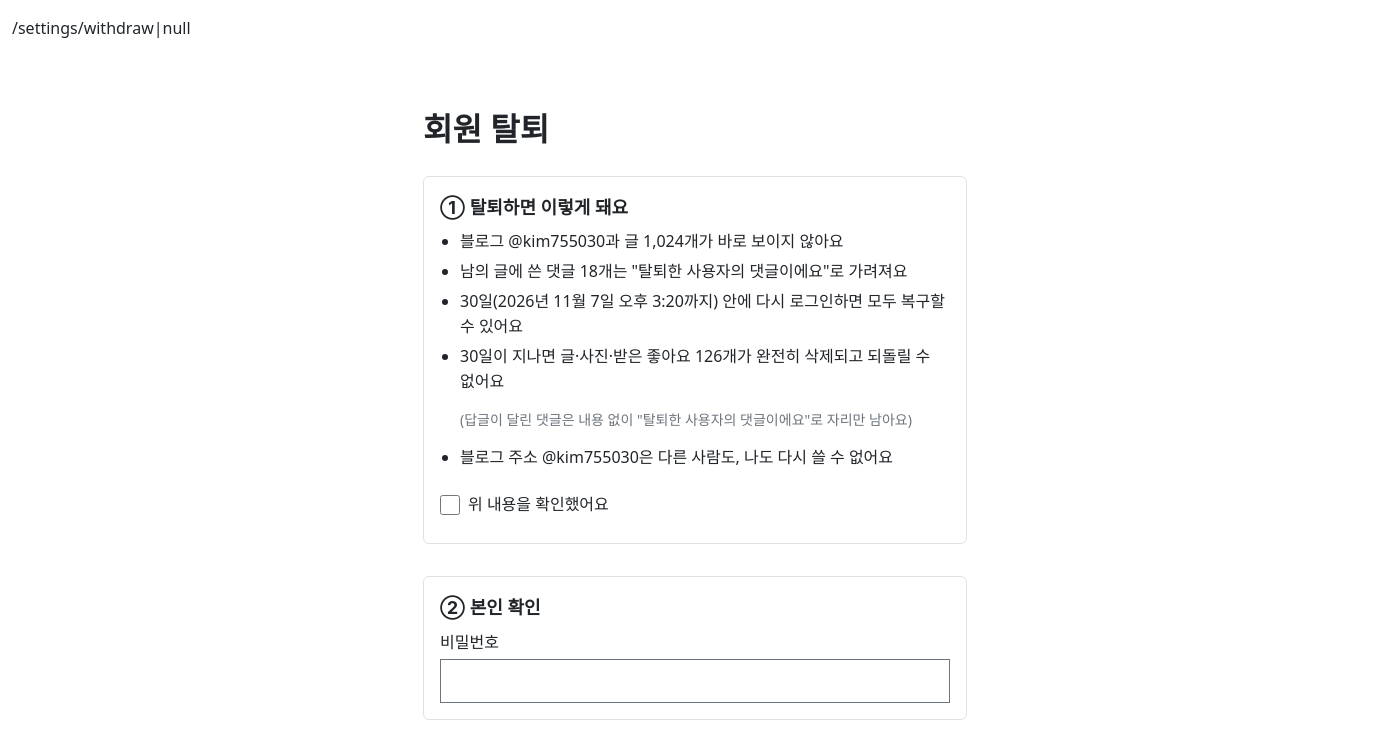
Scenario: WithdrawPage (015 T019, FR-003·FR-007) › 관리자면 화면 위에 안내
The width and height of the screenshot is (1378, 752).
Click the checkbox labelled "위 내용을 확인했어요" at [450, 505], box x1=440 y1=495 x2=460 y2=515
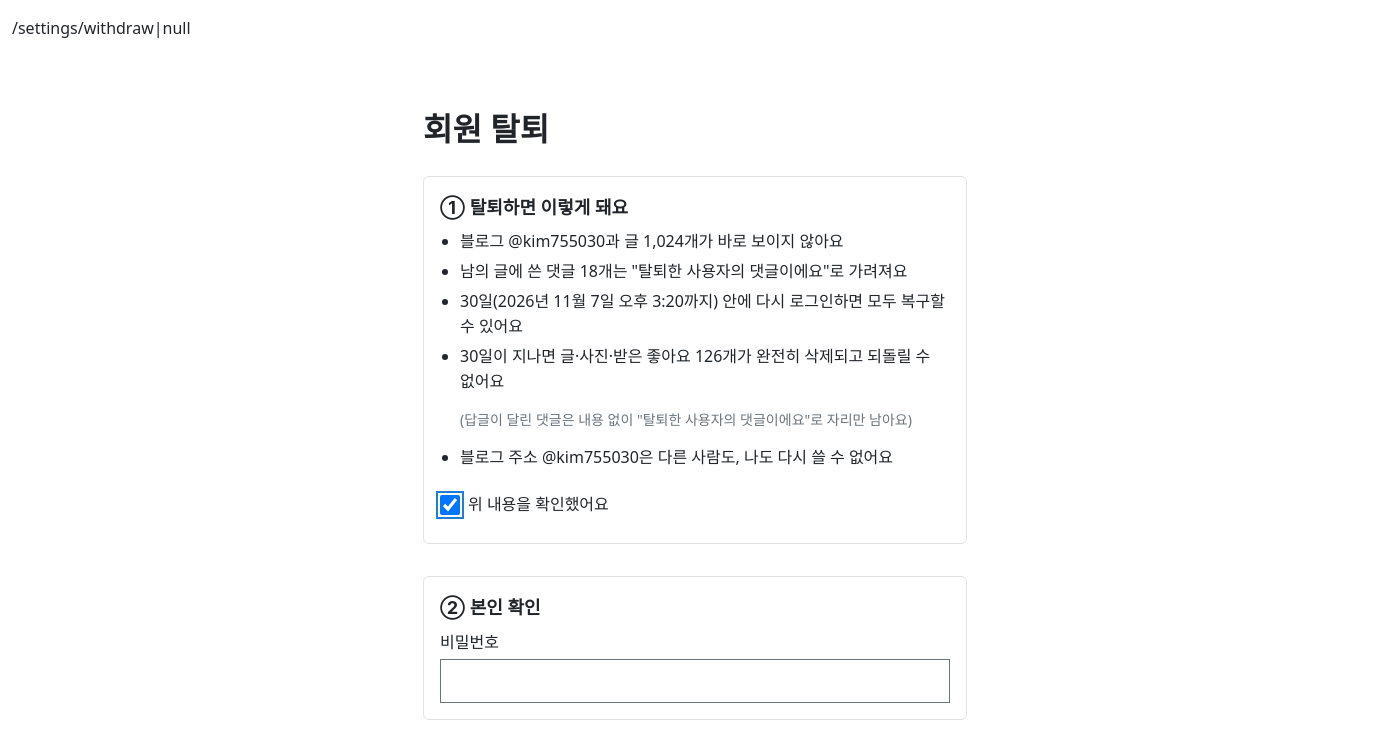
Type "Blog#2026a" into the password field labelled "비밀번호" at [695, 681], box x1=440 y1=659 x2=950 y2=703
(page scrolled)
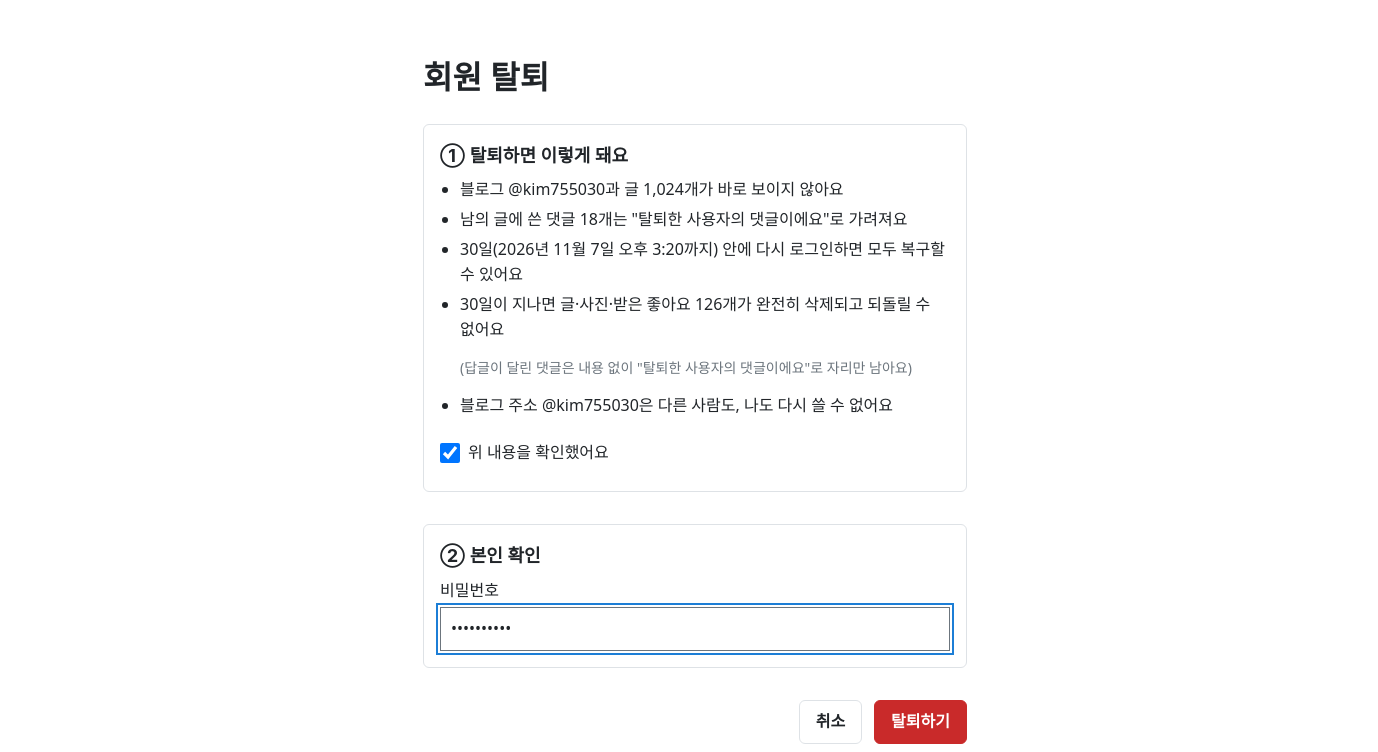
Click the button "탈퇴하기" at [921, 722], box x1=874 y1=700 x2=967 y2=744
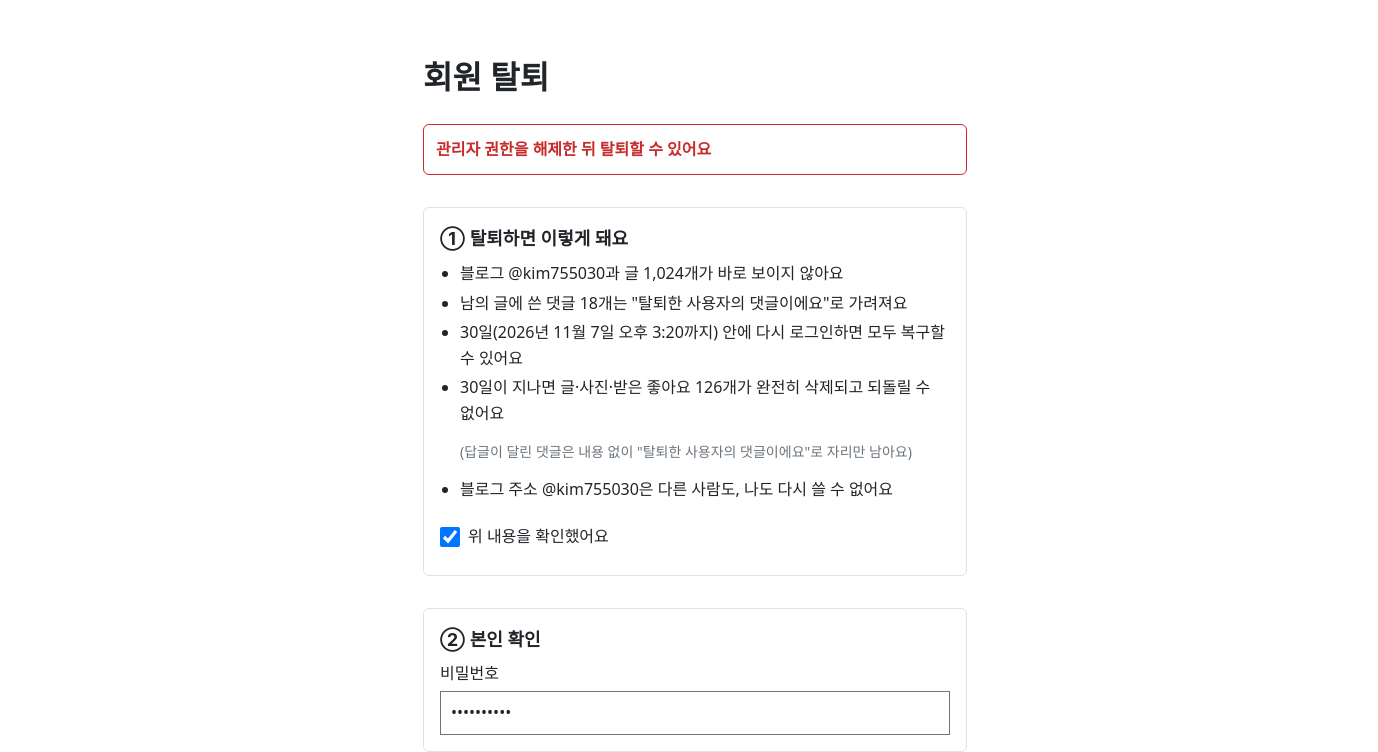
Expected: the message reads "관리자 권한을 해제한 뒤 탈퇴할 수 있어요", x1=436 y1=138 x2=711 y2=160
